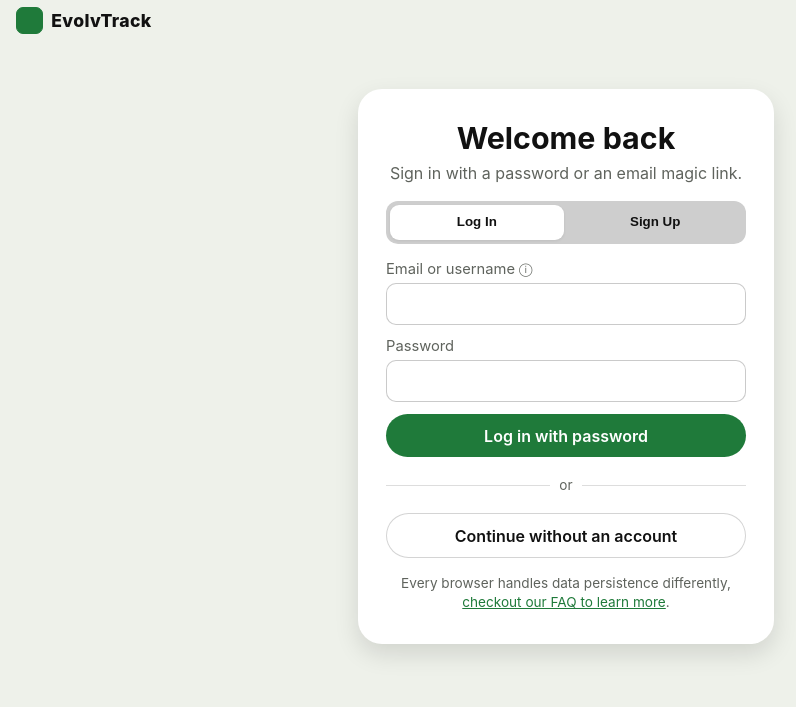
Test: AuthTabs — in-flight request guard (rate-limit protection) › re-enables the button after a failed sign-in so the user can retry
The width and height of the screenshot is (796, 707).
Step 1. Type "alice@example.com" into the field labelled "Email or username ⓘ" → (566, 304), box [386,283,746,325]
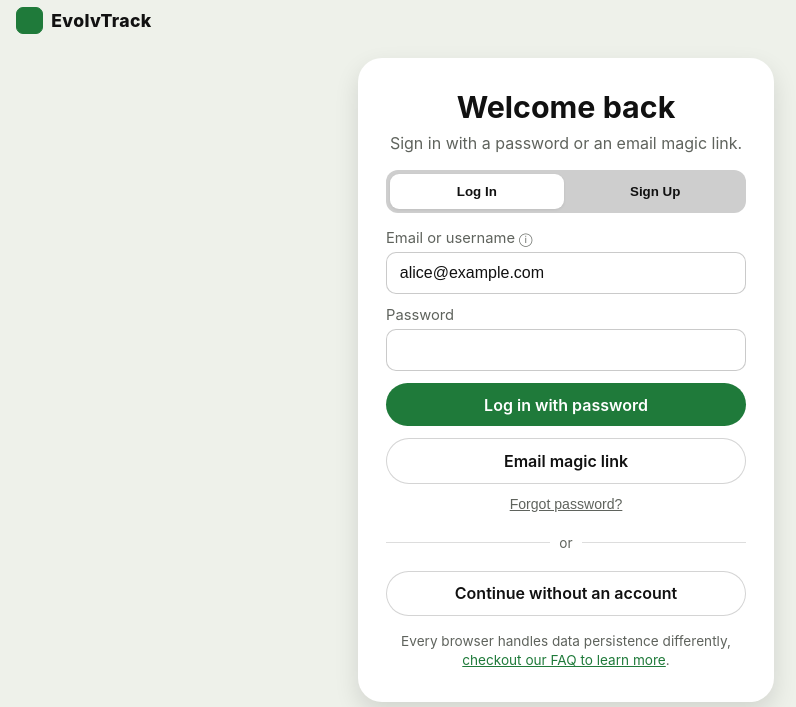
Step 2. Type "wrong" into the password field labelled "Password" → (566, 350), box [386,329,746,372]
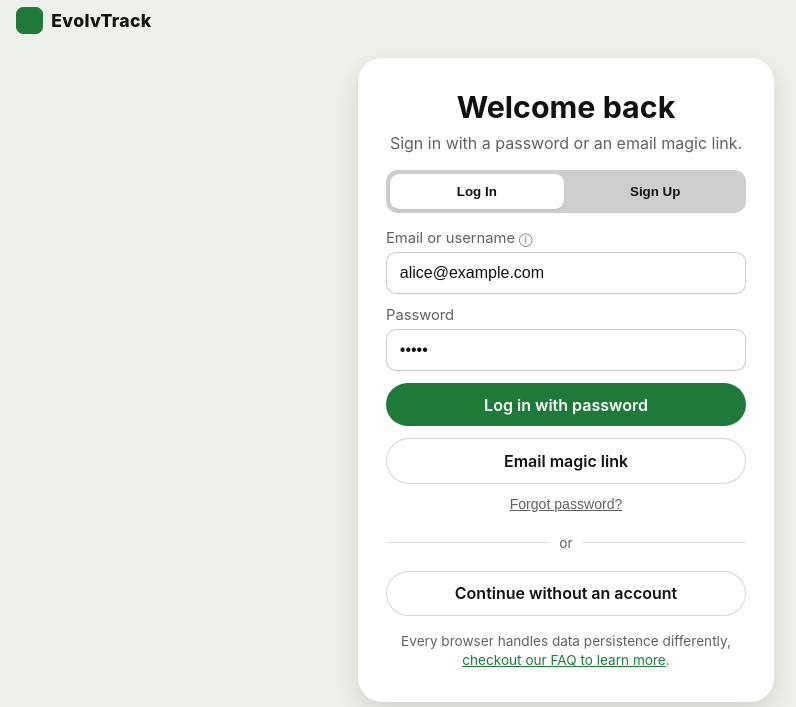
Step 3. Click the button "Log in with password" → (566, 405), box [386,383,746,426]
(page scrolled)
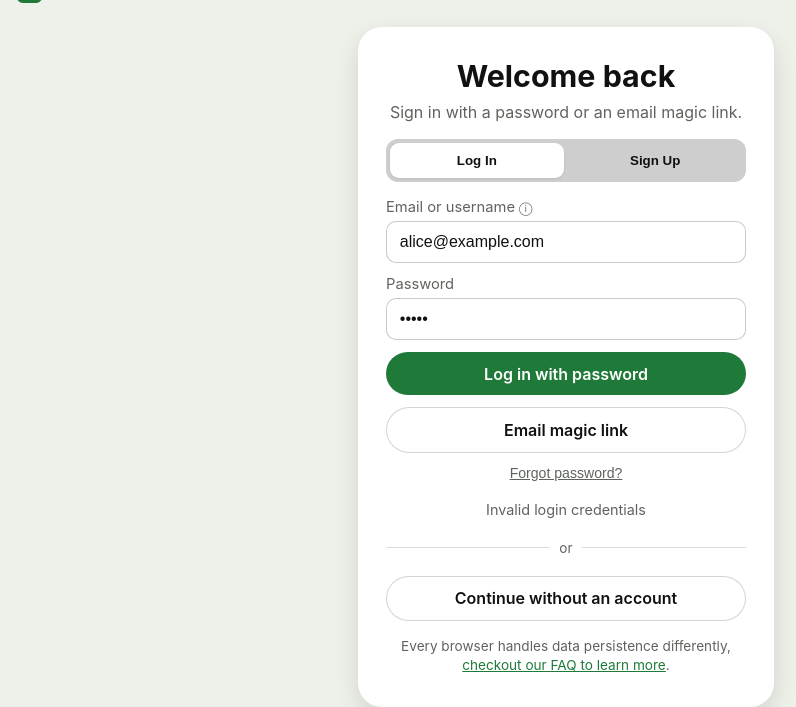
Expected: the button "Log in with password" is enabled, [386,352,746,395]
Now the element with id "host" shows "Invalid login credentials", box [486,501,646,518]
